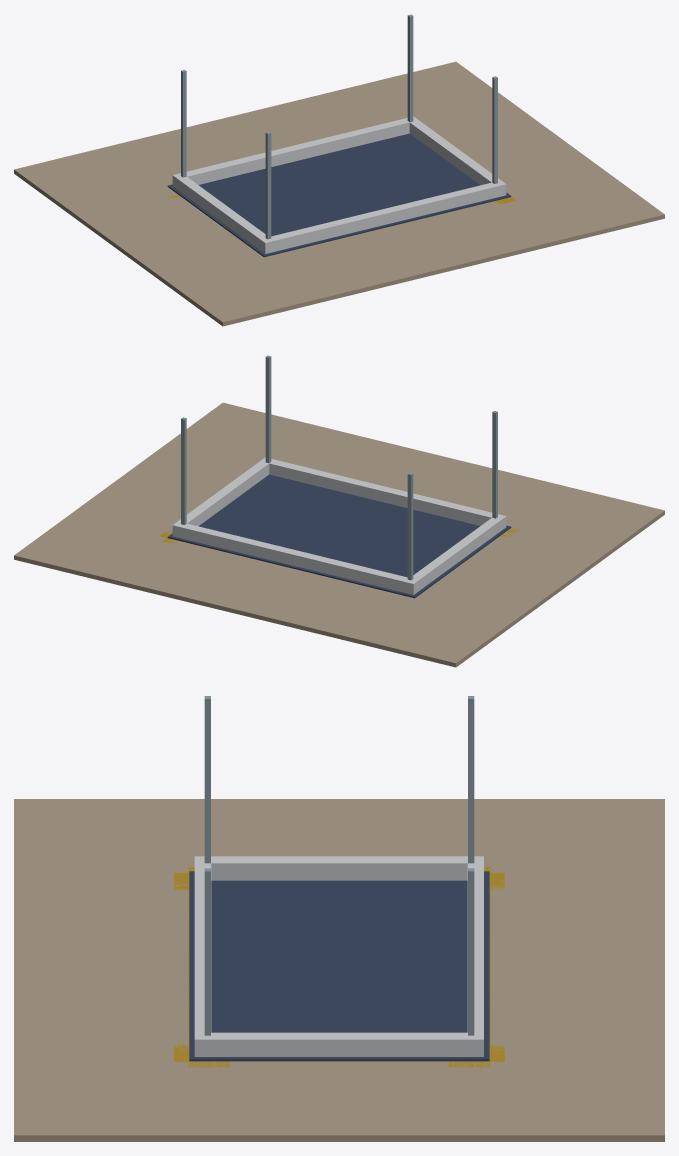
Rendered from stage_06_walls.glb.
The picture shows the model from 3 angles, top to bottom: view 1: azimuth 30°, elevation 25°; view 2: azimuth 150°, elevation 25°; view 3: azimuth 270°, elevation 25°; orthographic projection. The views are drawn at different scales.
Visible parts, largest first — view 1: world; view 2: world; view 3: world.
Part boxes in pixels (left/top/right/bottom): world: left=14, top=14, right=664, bottom=326; world: left=14, top=355, right=664, bottom=667; world: left=14, top=696, right=664, bottom=1141.
Size of the model in its own units: 11 by 3.6 by 9.
